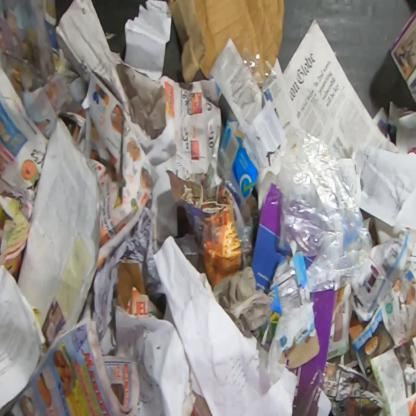cardboard: (168, 0, 286, 83), (165, 170, 244, 288), (268, 239, 321, 369), (287, 290, 336, 415), (251, 169, 292, 295), (219, 119, 259, 216), (113, 263, 147, 311), (304, 256, 316, 271)
rigid_plastic: (227, 46, 279, 110)
soft_plastic: (278, 126, 374, 292), (207, 145, 254, 254)
